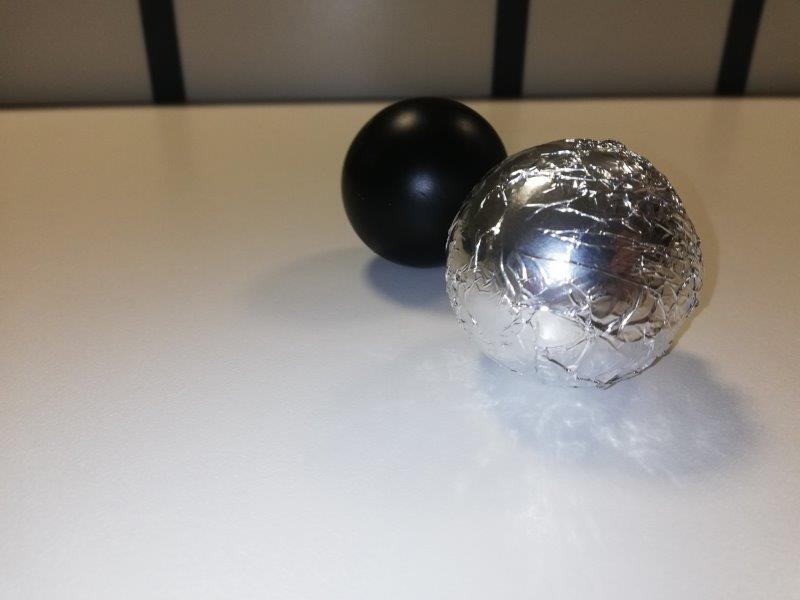bianca: (448, 141, 704, 390)
nera: (341, 97, 509, 270)
